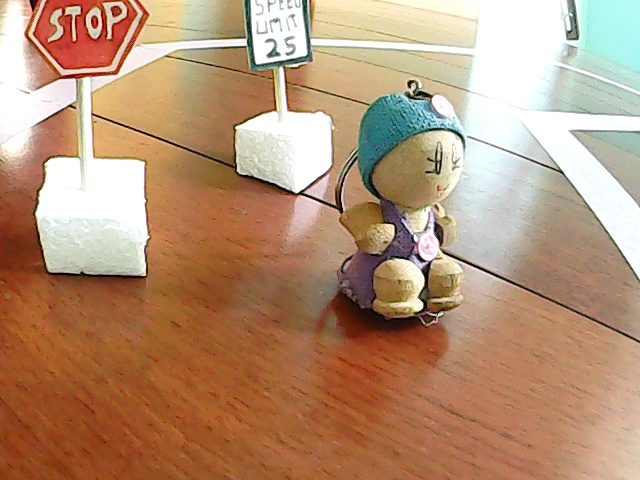pedestrain: (342, 88, 470, 328)
speed_25: (232, 1, 334, 193)
stop: (23, 1, 177, 278)
